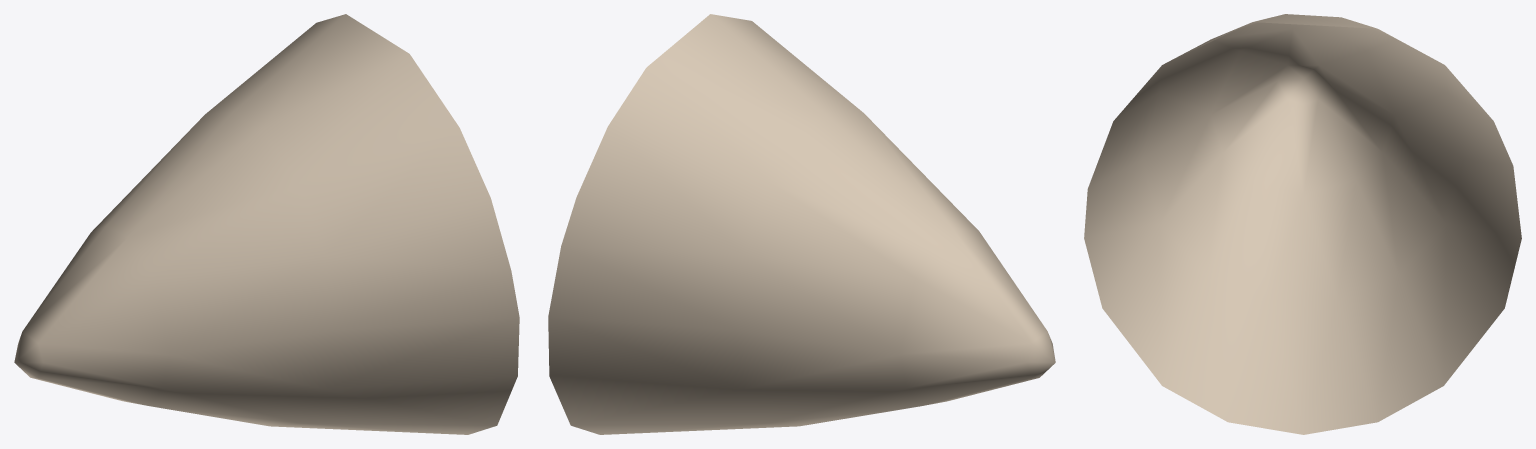
The model's file is m_jet_0bd267df.glb.
3 views of the same model, side by side, from view 1: azimuth 30°, elevation 25°; view 2: azimuth 150°, elevation 25°; view 3: azimuth 270°, elevation 25° (orthographic).
Parts seen in each view (by area): view 1: mesh; view 2: mesh; view 3: mesh.
Boxes of the visible parts, x1,y1,x2,y2 form: mesh: [14, 14, 519, 434]; mesh: [548, 14, 1055, 434]; mesh: [1084, 14, 1521, 434].
Bounding box in the file's own units: 389 × 353 × 359.
